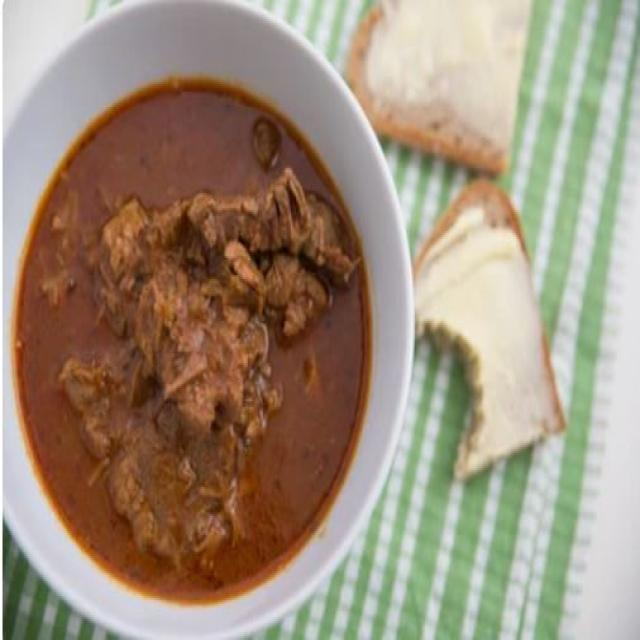kamouniya: (14, 52, 407, 589)
